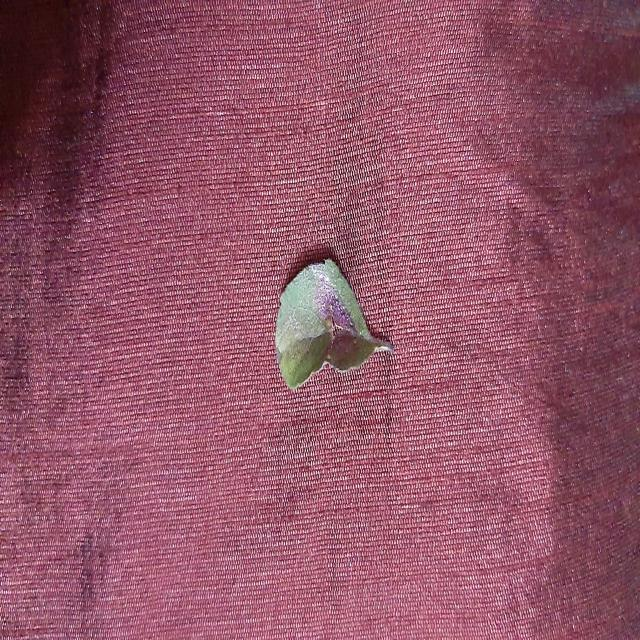defectedtulsi: (312, 274, 356, 333)
tulsi: (275, 257, 392, 387)
